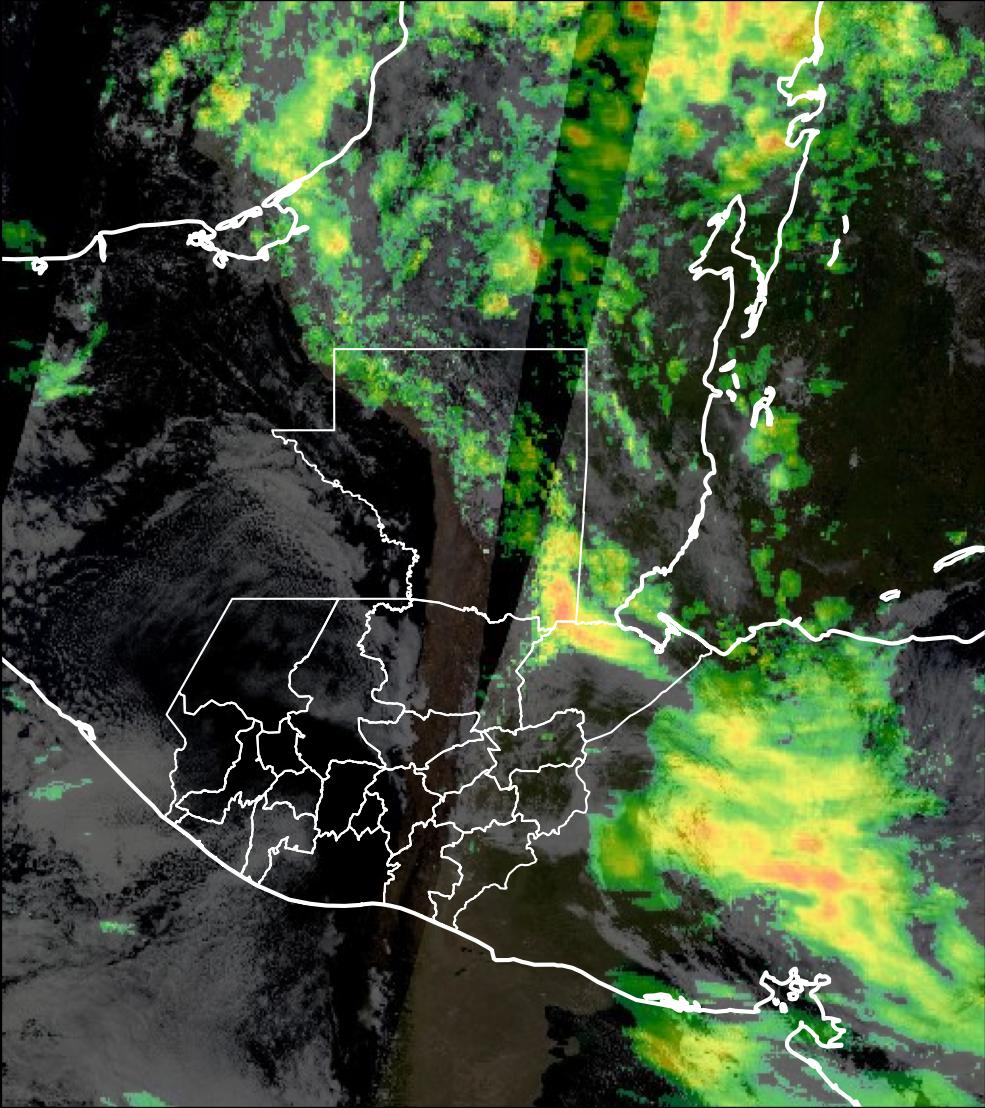precipitacion: (694, 813, 896, 960)
